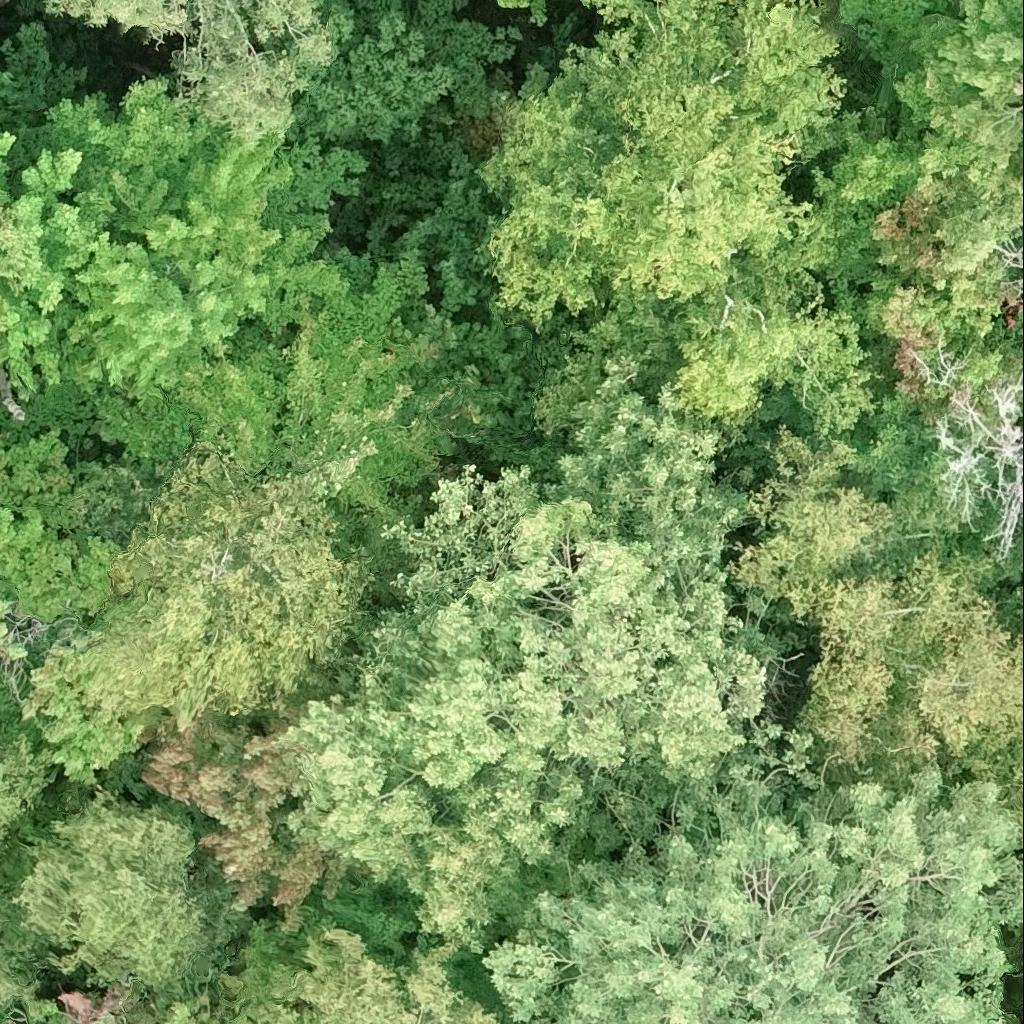crown: (276, 349, 839, 957), (486, 762, 1023, 1023), (728, 425, 1023, 837), (1, 79, 367, 397), (29, 442, 373, 730), (478, 62, 817, 331), (775, 107, 1023, 399), (530, 250, 874, 437), (562, 0, 863, 157), (143, 707, 345, 935), (50, 0, 329, 145), (18, 791, 201, 986), (287, 0, 525, 143), (268, 323, 445, 514), (0, 134, 116, 392), (881, 0, 1023, 193), (236, 933, 498, 1023), (41, 673, 172, 783), (840, 0, 941, 60), (981, 302, 1023, 403), (56, 981, 134, 1023), (0, 762, 40, 835), (0, 597, 26, 661), (0, 208, 24, 277), (496, 0, 548, 25), (0, 972, 37, 1006), (939, 0, 956, 13), (0, 299, 7, 329), (1016, 584, 1023, 612), (0, 901, 2, 928)
